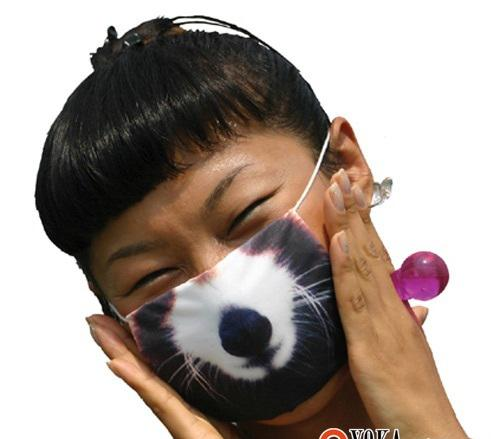OK: (90, 157, 356, 423)
